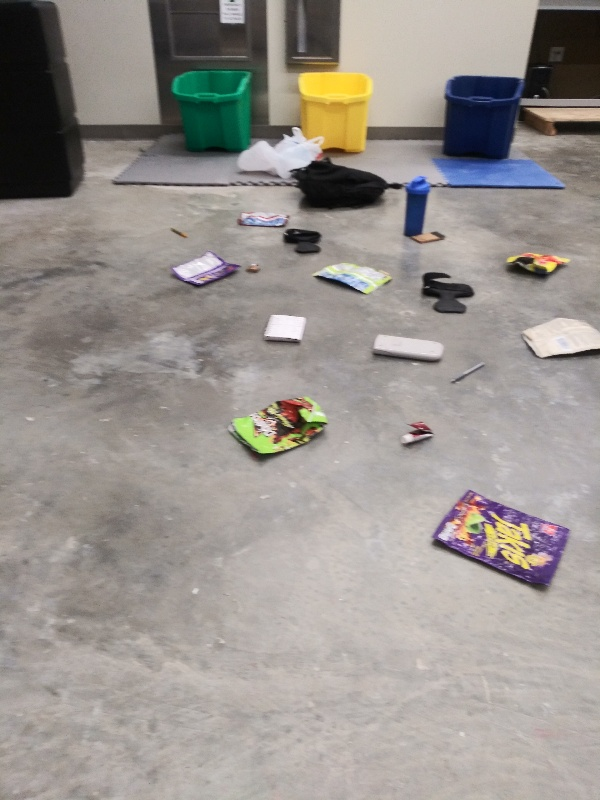bag: (425, 487, 576, 597), (220, 391, 329, 456), (514, 313, 600, 361), (308, 257, 397, 300), (164, 248, 243, 292), (499, 245, 574, 282), (232, 206, 294, 232)
